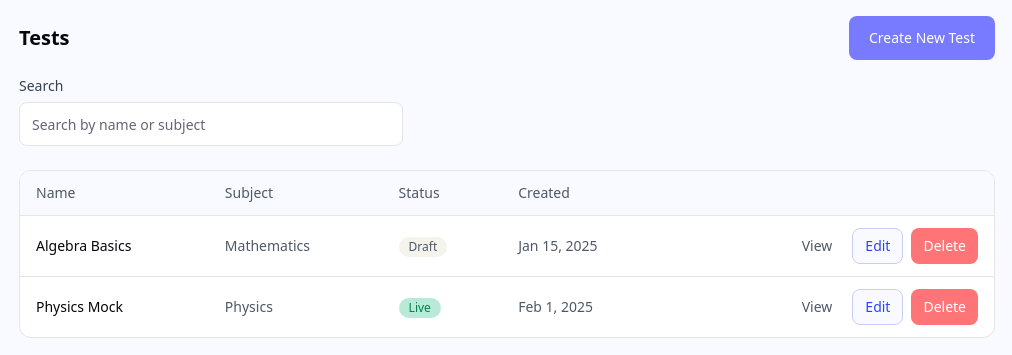
Test: DashboardPage › lists tests and filters them by search
Check: the text "Algebra Basics" is shown, box [20,216,209,276]
Check: the text "Physics Mock" is shown, box [20,276,209,337]
In the field labelled "Search": (211, 124) [19,102,403,146], type "physics"
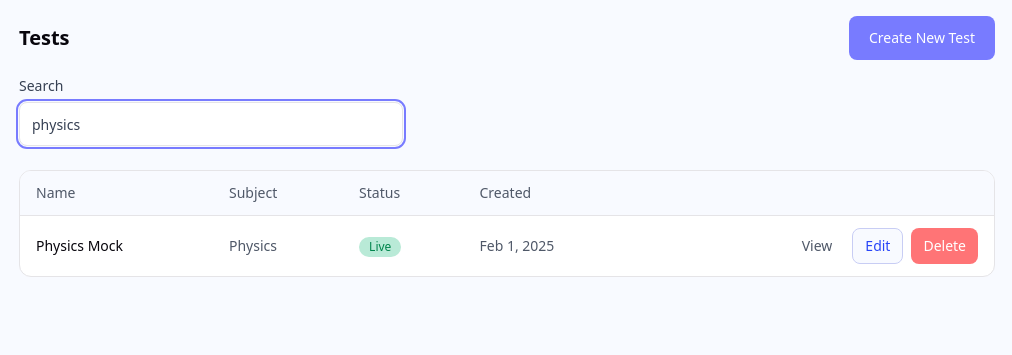
Check: the text "Physics Mock" is shown, box [20,216,213,276]
Check: the text "Algebra Basics" is gone
